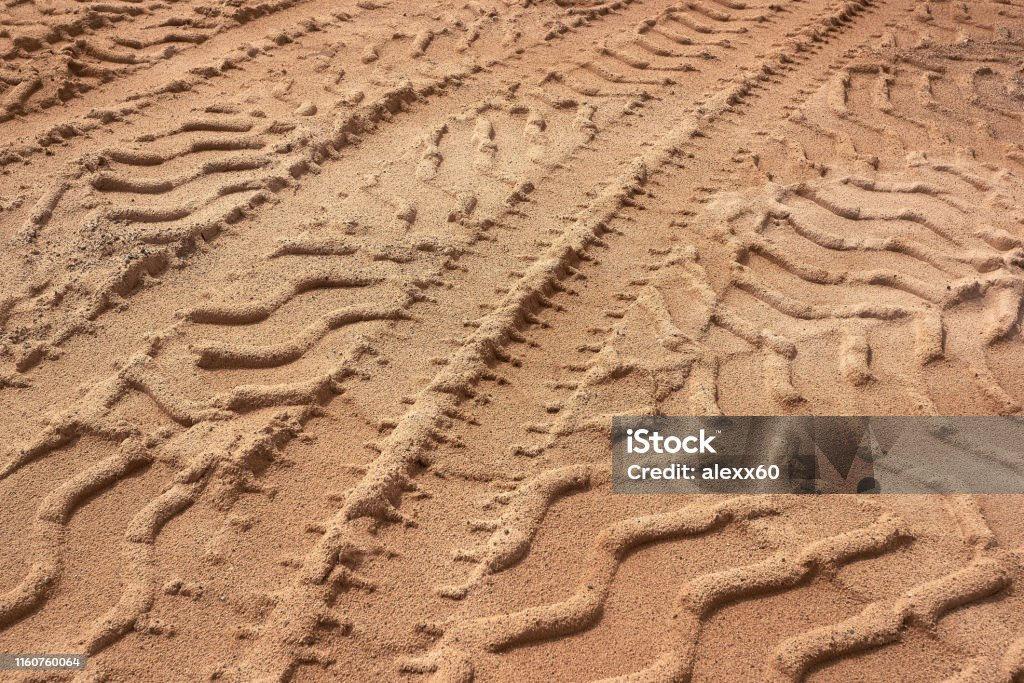vehicle_track: (0, 0, 1023, 680), (4, 3, 629, 370), (0, 0, 298, 124)
